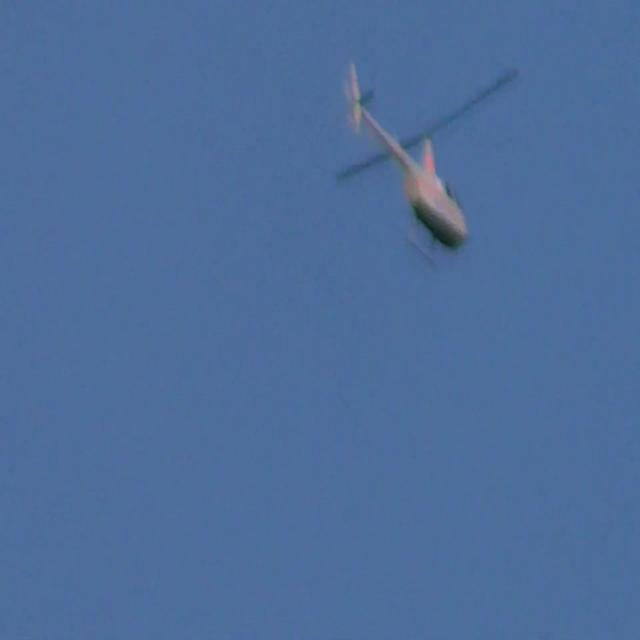CIV_HELO: (344, 59, 469, 273)
